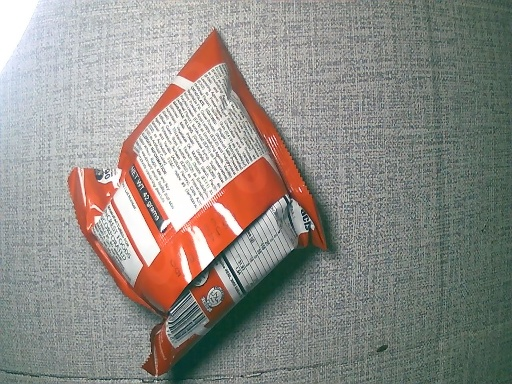plastic: (66, 26, 325, 384)
